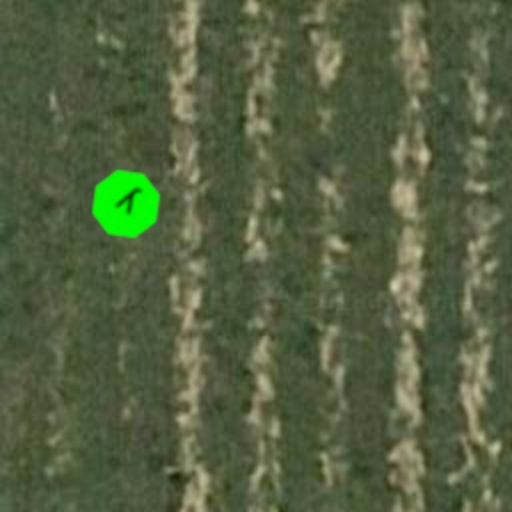octagon: (76, 154, 176, 254)
